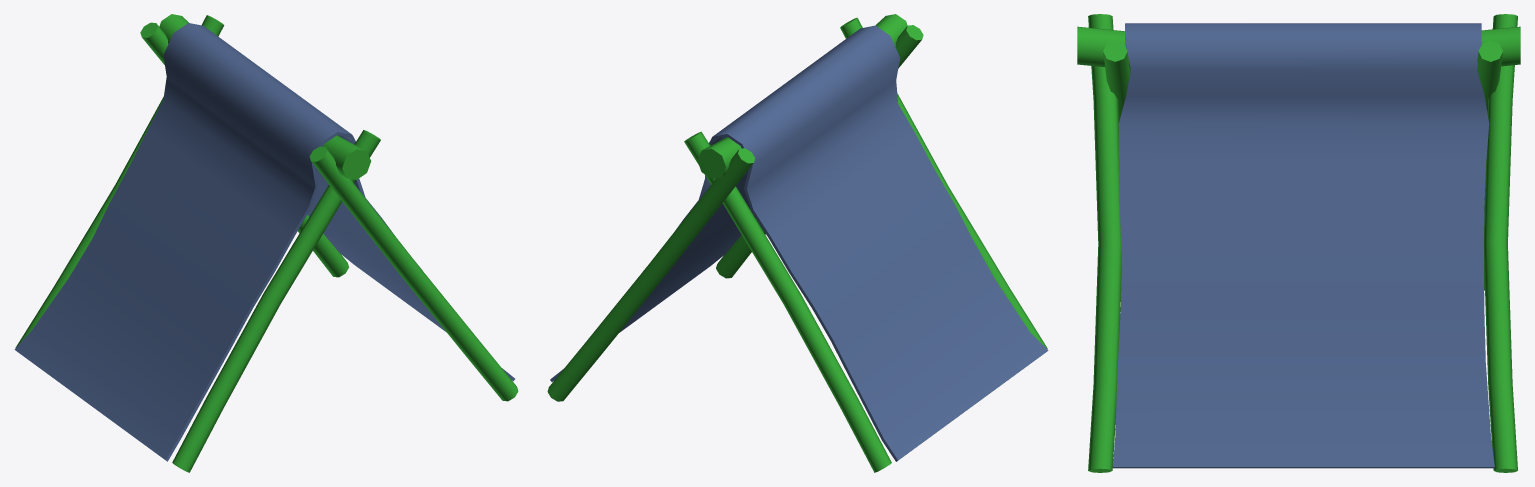
Rendered from Tent.FBX.
The picture shows the model from 3 angles, left to right: view 1: azimuth 30°, elevation 25°; view 2: azimuth 150°, elevation 25°; view 3: azimuth 270°, elevation 25°; orthographic projection. The views are drawn at different scales.
Visible parts, largest first — view 1: TentCloth, Pole002, Pole; view 2: TentCloth, Pole002, Pole; view 3: TentCloth, Pole002, Pole.
Boxes of the visible parts, x1,y1,x2,y2 form: TentCloth: (14,23,514,461); Pole002: (15,15,518,472); Pole: (159,14,371,179); TentCloth: (550,25,1048,461); Pole002: (547,17,1047,472); Pole: (697,14,907,178); TentCloth: (1112,23,1494,468); Pole002: (1088,14,1517,472); Pole: (1077,26,1520,69).
Size of the model in its own units: 60.58 by 50.07 by 56.15.
